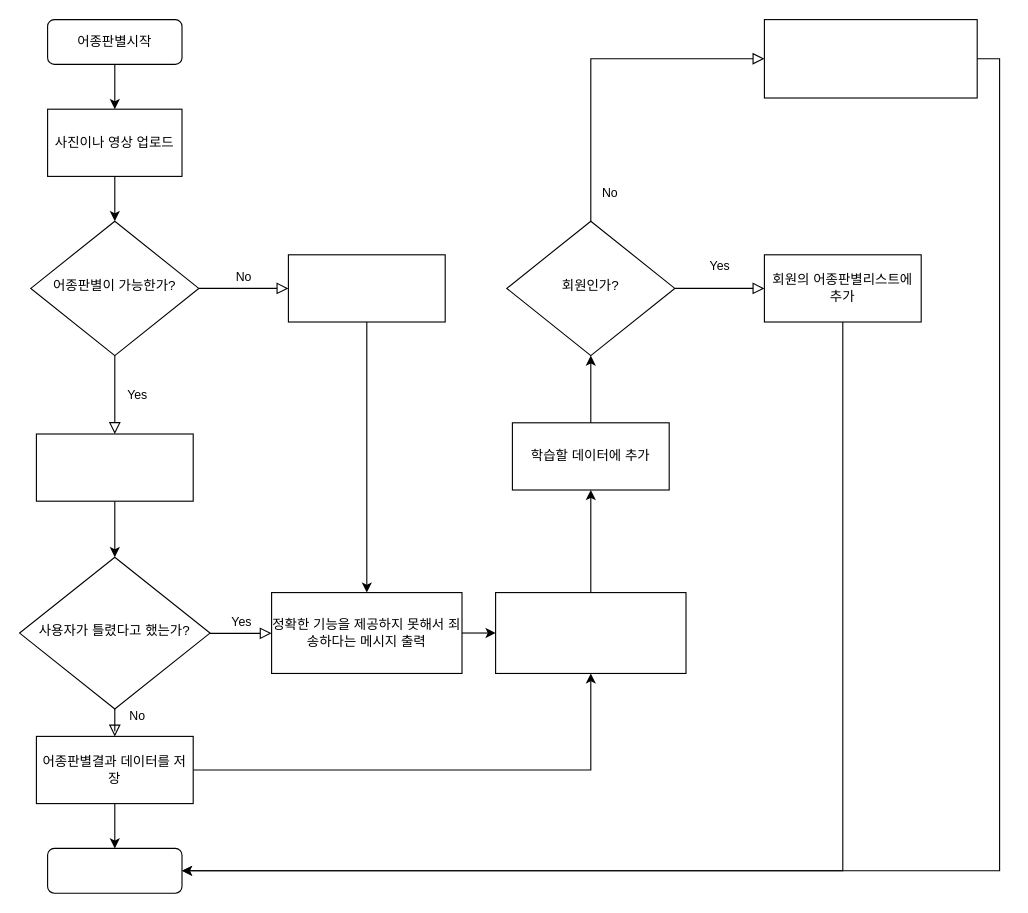
The diagram is 1028 pixels wide and 913 high, and some of its shapes have lost their labels. Each missing label, with the box of its shape:
데이터 수집에 도움을 주셔서 감사하다는 메시지 출력: (494, 591, 686, 673)
어종판별 종료: (46, 847, 182, 893)
어종판별결과를 출력: (35, 433, 193, 501)
현재는 판별이 불가능하다는 에러메시지 출력: (287, 254, 445, 322)
회원이라면 어종판별을 나중에라도 확인해서 알려준다는 메시지 출력: (763, 18, 977, 98)
